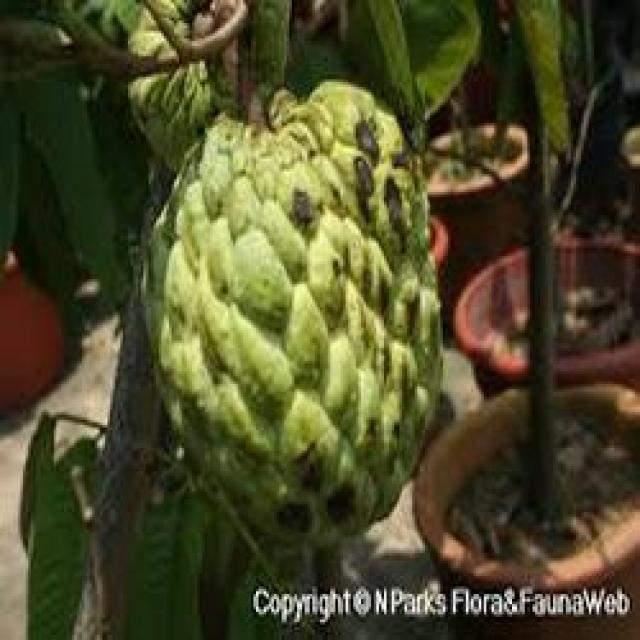apple: (144, 69, 458, 533)
